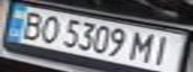0: (93, 22, 112, 55)
3: (75, 20, 96, 53)
5: (57, 17, 81, 50)
9: (109, 25, 130, 58)
B: (15, 8, 48, 41)
I: (148, 34, 181, 66)
M: (127, 30, 160, 64)
O: (36, 12, 66, 45)
